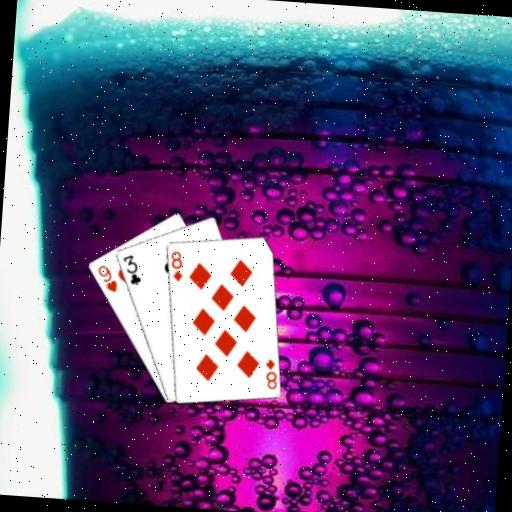3C: (119, 251, 145, 287)
8D: (166, 247, 185, 283), (261, 355, 280, 391)
9H: (93, 261, 120, 294)
